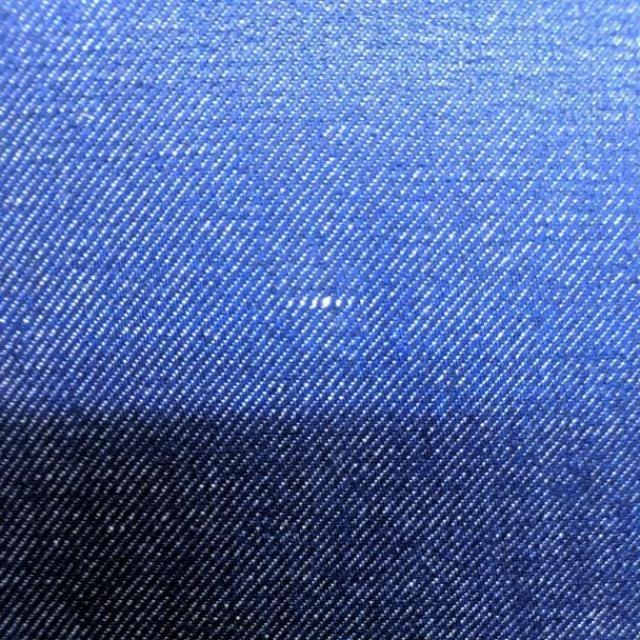Knot: (285, 294, 357, 310)
